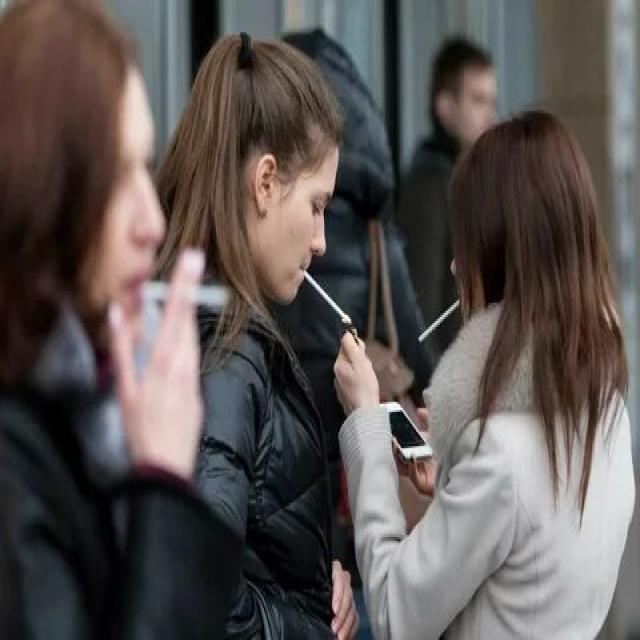cigarette: (136, 271, 237, 323), (300, 265, 356, 329), (412, 289, 468, 349)
